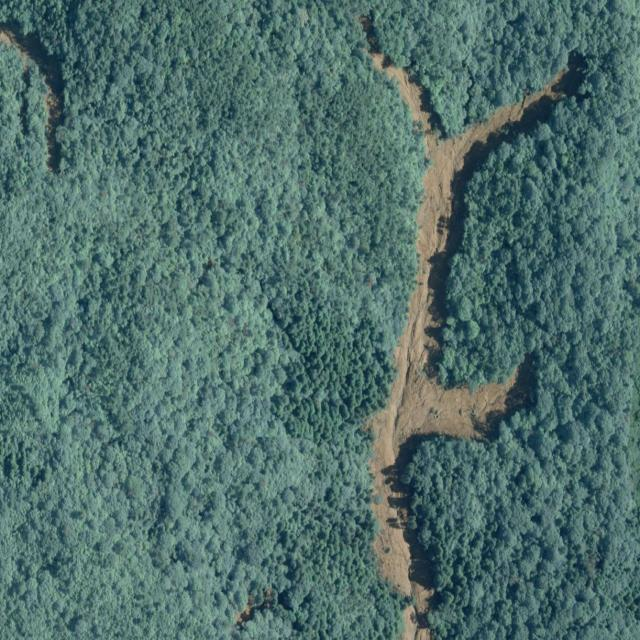landslide: (368, 50, 582, 640)
